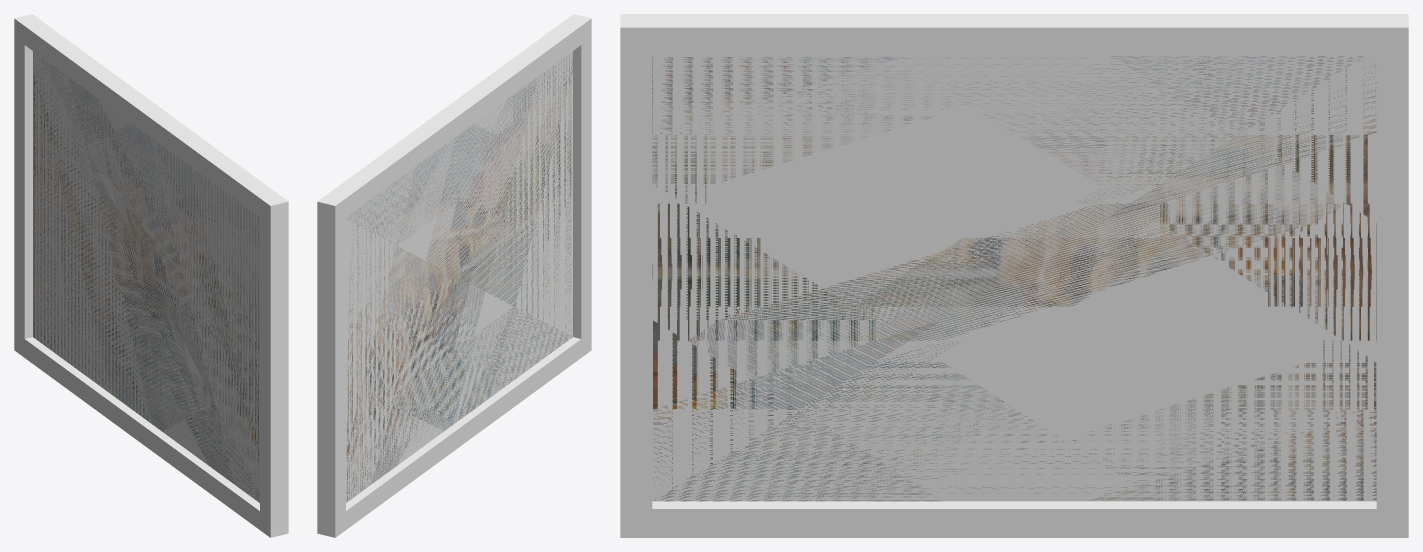
The model's file is Paris-PontNeuf.dae.
3 renders of one model, left to right at view 1: azimuth 30°, elevation 25°; view 2: azimuth 150°, elevation 25°; view 3: azimuth 270°, elevation 25°, orthographic. The views are drawn at different scales.
Parts seen in each view (by area): view 1: SketchUp (×3); view 2: SketchUp (×3); view 3: SketchUp (×4).
Boxes of the visible parts, box(x1,y1,x2,y2) form: SketchUp (×3): box(14, 14, 288, 537); SketchUp (×3): box(317, 14, 591, 537); SketchUp (×4): box(620, 14, 1408, 537).
Size of the model in its own units: 0.7874 by 19.29 by 13.78.
Materials: 3 (1 with a texture image).
